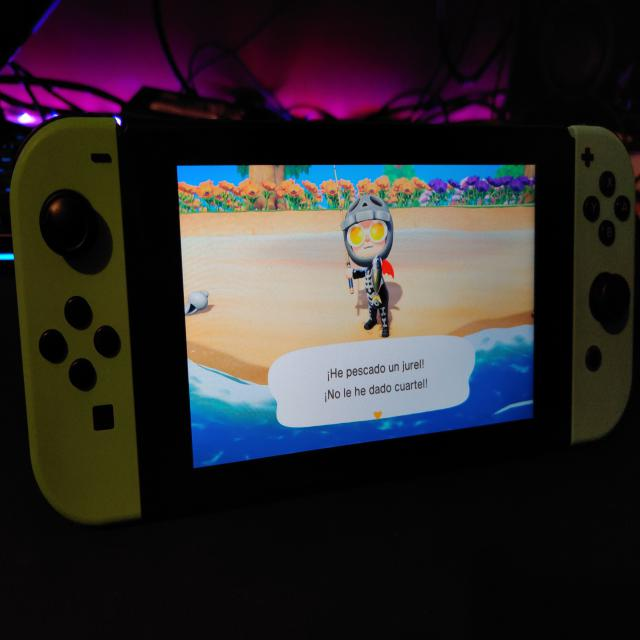text_bubble: (269, 333, 477, 431)
